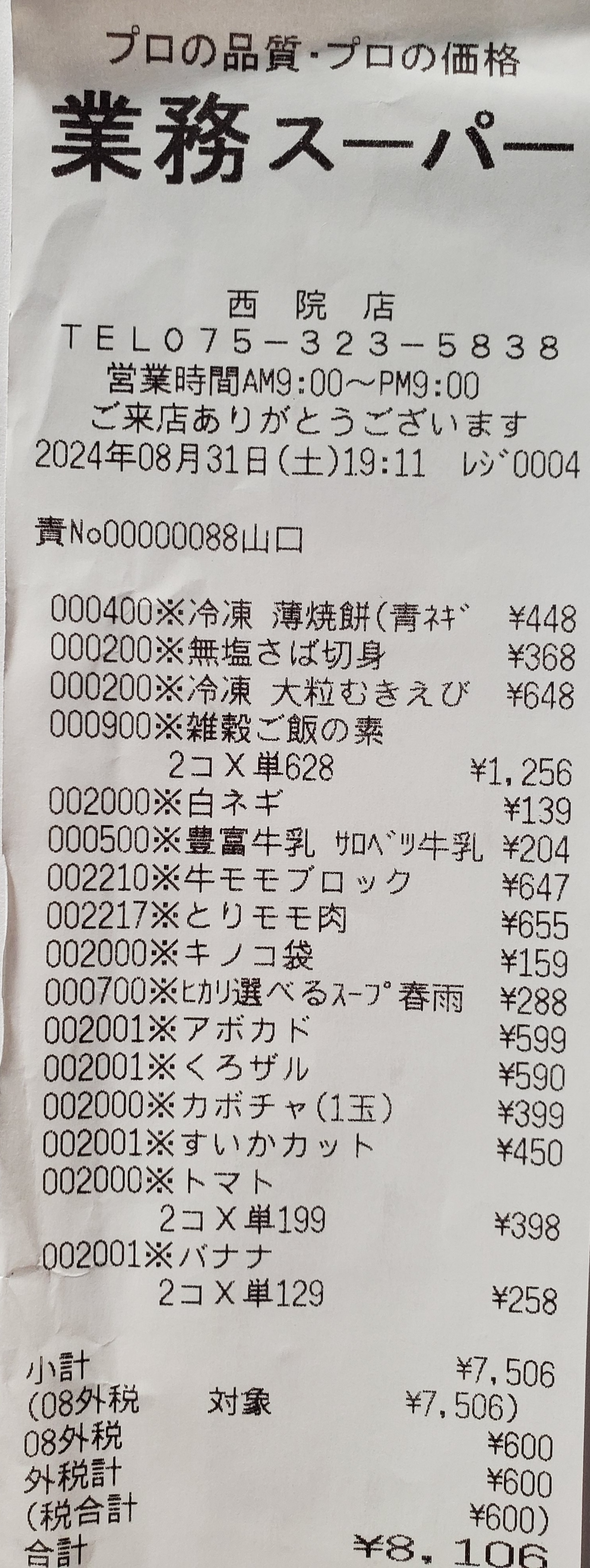Date: (28, 436, 277, 480)
Shopname: (36, 85, 579, 196)
Telnum: (156, 322, 575, 361)
Totalpay: (22, 1532, 568, 1566)
